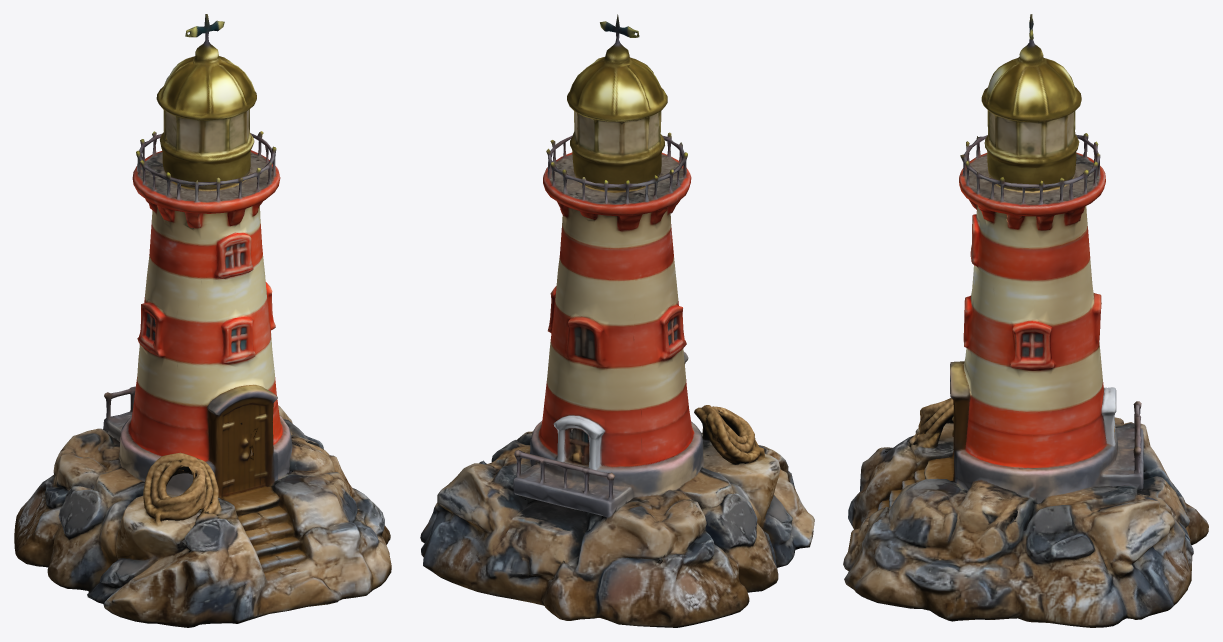
The model's file is env_harbor_lighthouse.glb.
The picture shows the model from 3 angles, left to right: view 1: azimuth 30°, elevation 25°; view 2: azimuth 150°, elevation 25°; view 3: azimuth 270°, elevation 25°; orthographic projection.
Visible parts, largest first — view 1: world; view 2: world; view 3: world.
Boxes of the visible parts, bbox=[...] form: world: bbox=[14, 14, 391, 627]; world: bbox=[420, 14, 814, 627]; world: bbox=[843, 14, 1208, 627].
Size of the model in its own units: 0.6124 by 0.9938 by 0.6106.
1 material, 1 textured.
